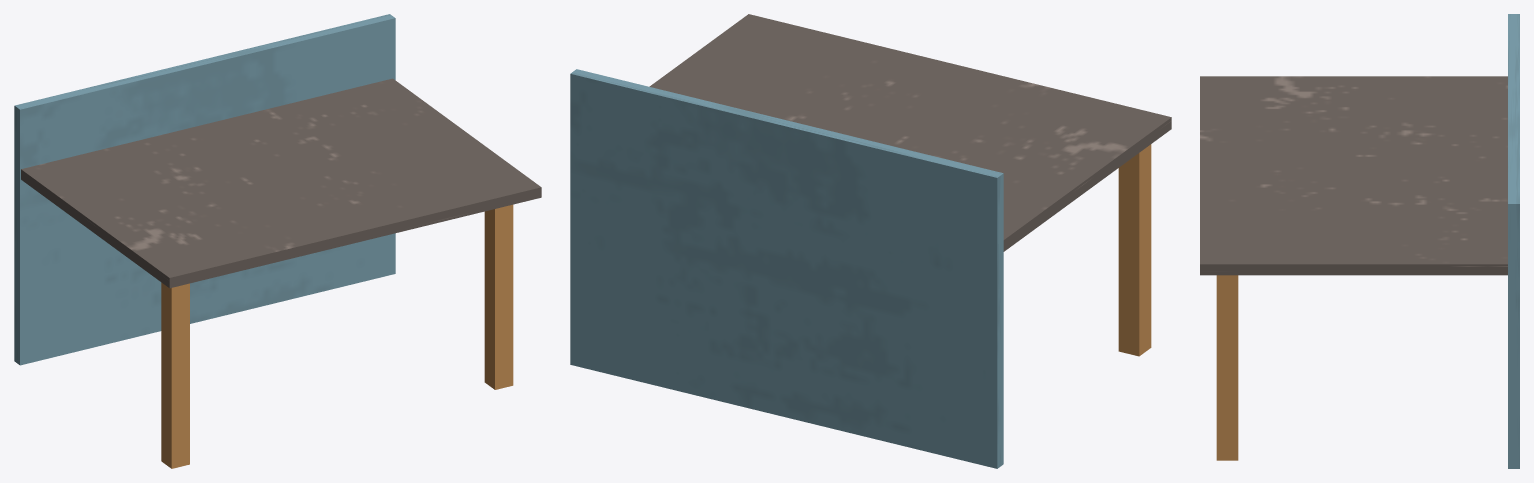
Rendered from desk.fbx.
The picture shows the model from 3 angles, left to right: view 1: azimuth 30°, elevation 25°; view 2: azimuth 150°, elevation 25°; view 3: azimuth 270°, elevation 25°; orthographic projection. The views are drawn at different scales.
Visible parts, largest first — view 1: Cube.006; view 2: Cube.006; view 3: Cube.006.
Part boxes in pixels (bbox=[...]): Cube.006: bbox=[14, 14, 541, 468]; Cube.006: bbox=[570, 14, 1171, 468]; Cube.006: bbox=[1200, 14, 1519, 468].
Size of the model in its own units: 401 by 265 by 286.
1 material, 1 textured.
